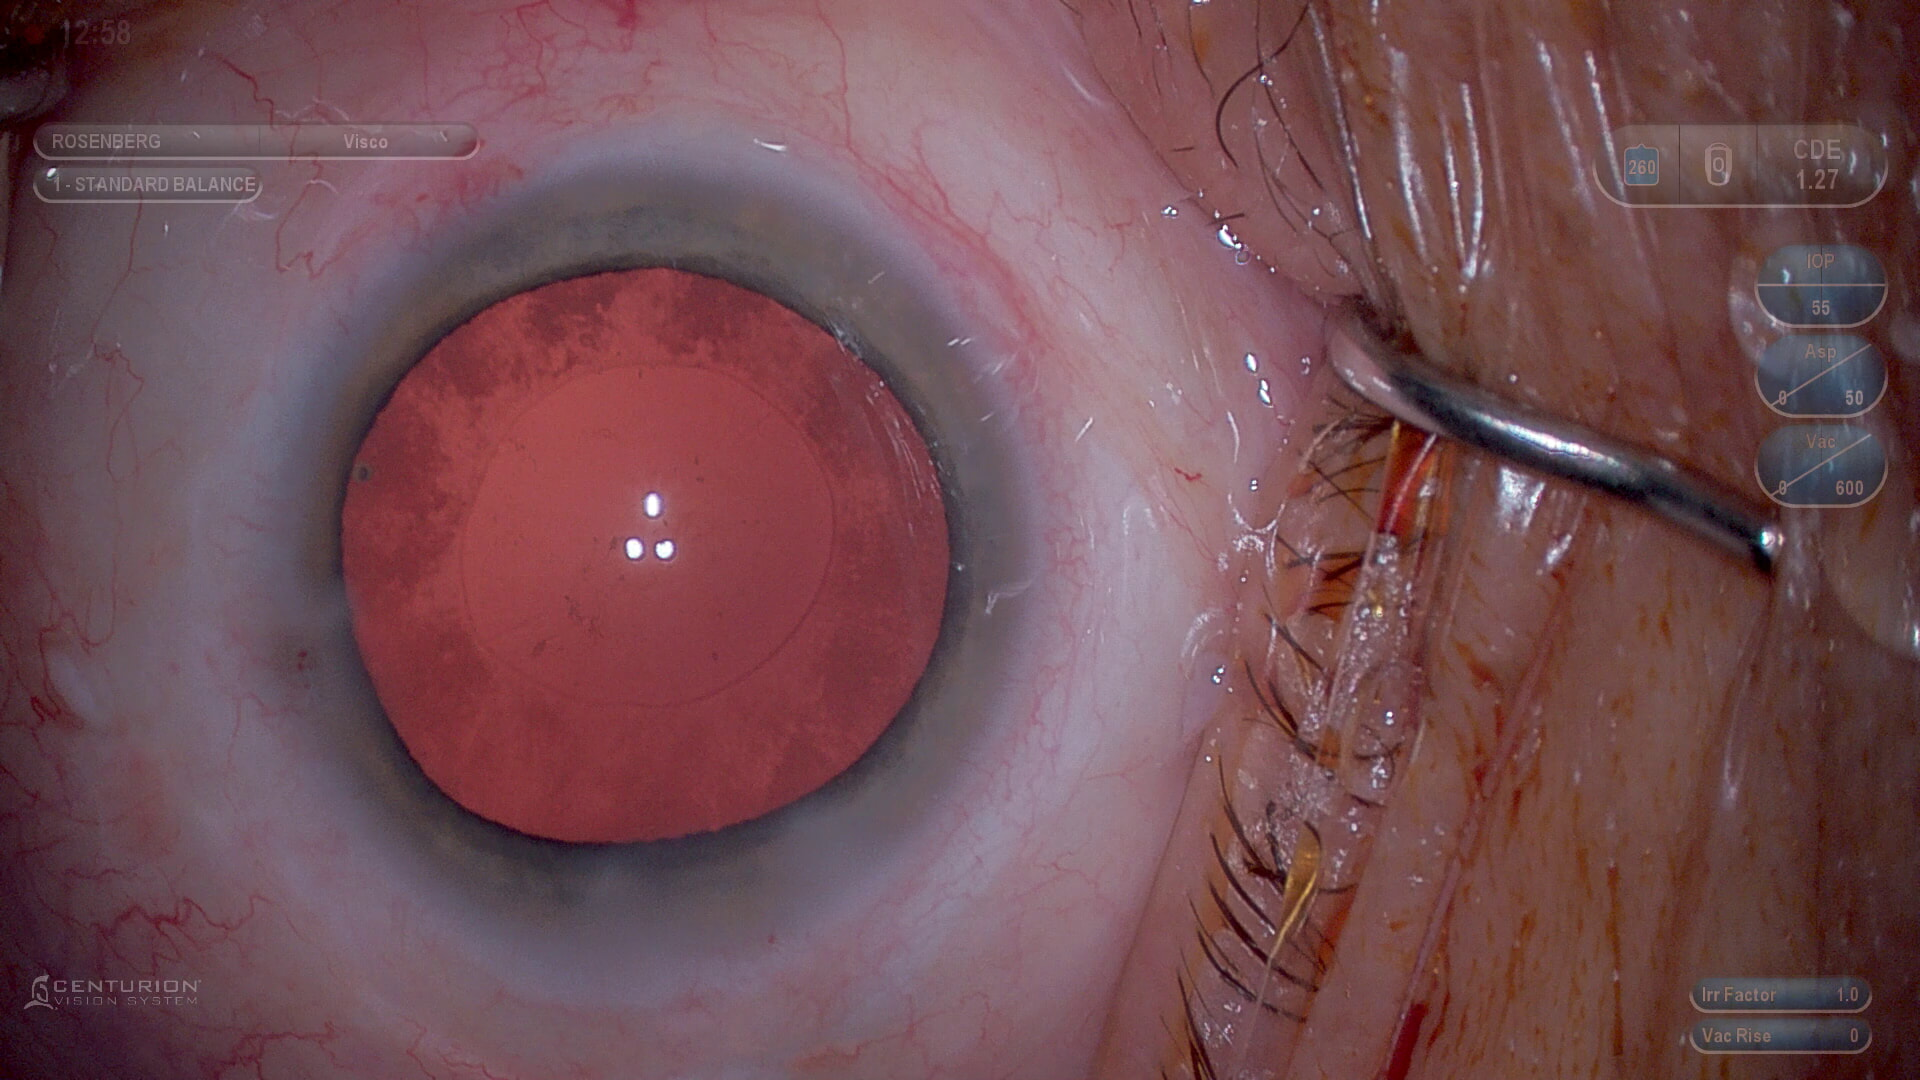iris: (308, 180, 1020, 922)
pupil: (335, 270, 959, 851)
